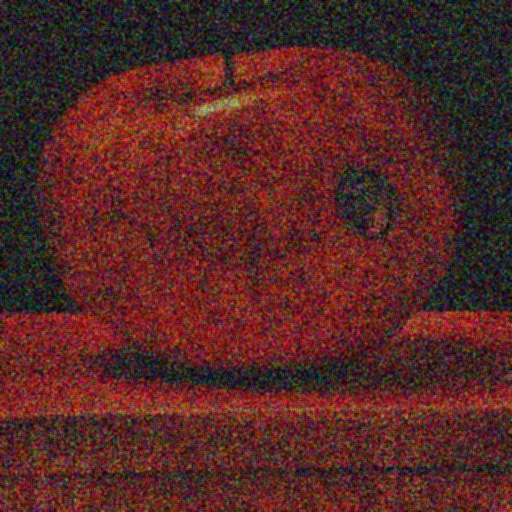fruit: (7, 89, 71, 376), (115, 37, 346, 104), (110, 20, 344, 58)
